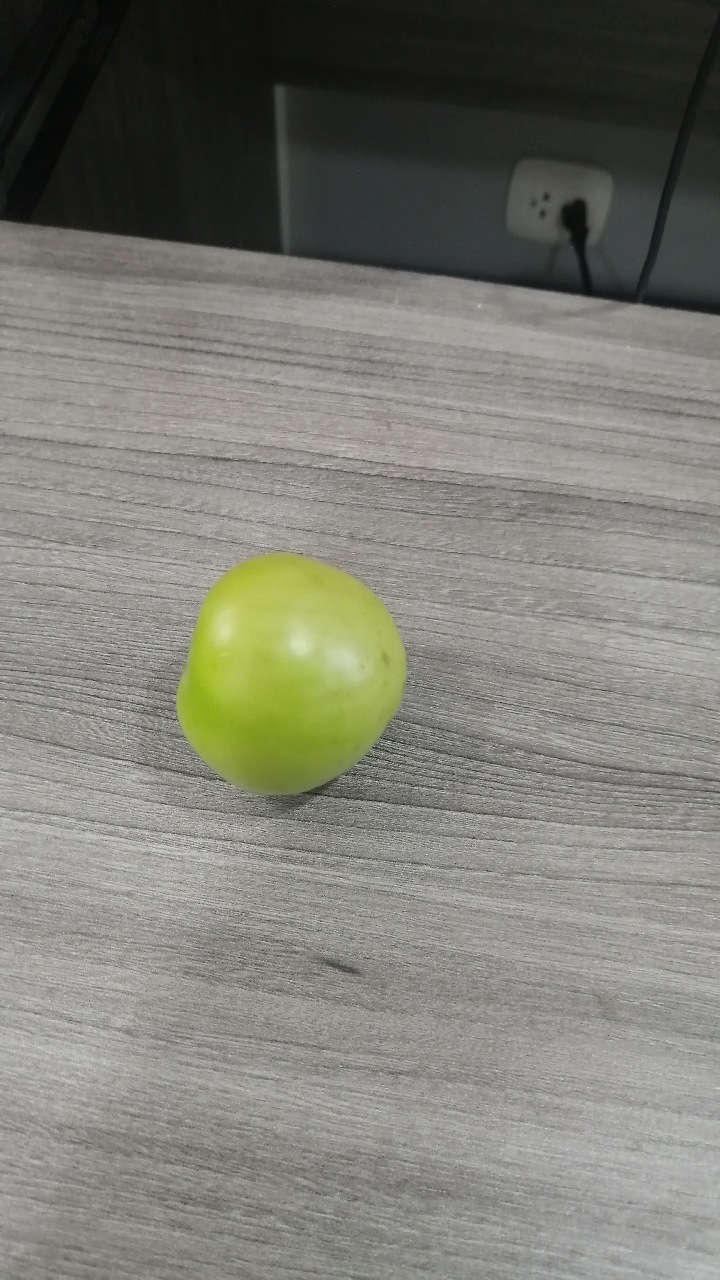tomateVerde: (155, 534, 420, 823)
